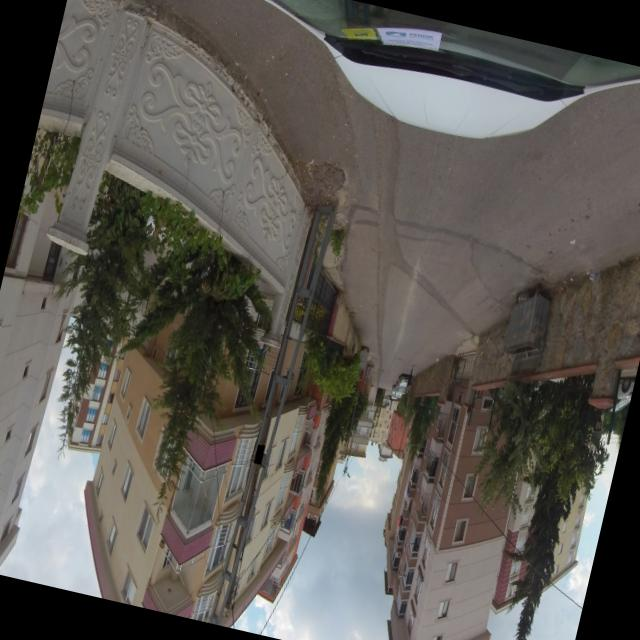Utility Pole Information Plate: (253, 443, 264, 463)
